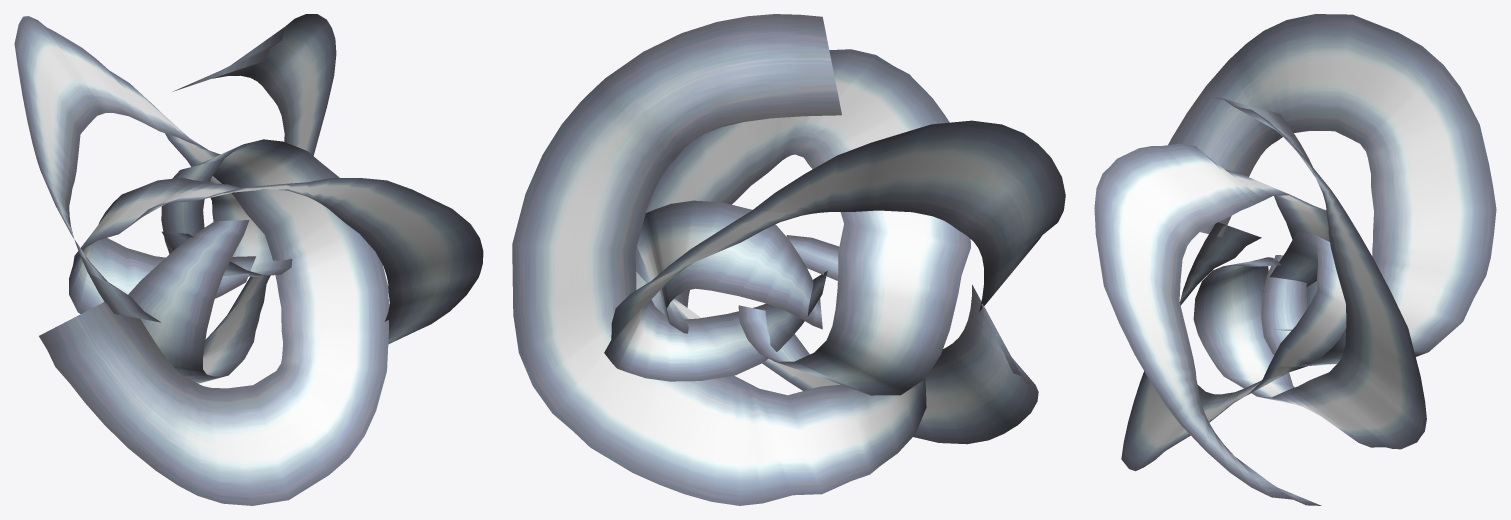
Rendered from witch_teleport_inout.FBX.
3 renders of one model, left to right at view 1: azimuth 30°, elevation 25°; view 2: azimuth 150°, elevation 25°; view 3: azimuth 270°, elevation 25°, orthographic. The views are drawn at different scales.
Visible parts, largest first — view 1: Plane002, Plane003, Plane004, Plane005; view 2: Plane004, Plane003, Plane005, Plane002; view 3: Plane005, Plane003, Plane004, Plane002.
Part boxes in pixels (<box>): Plane002: <box>39,139,388,505</box>; Plane003: <box>69,177,483,344</box>; Plane004: <box>128,14,336,383</box>; Plane005: <box>14,16,292,322</box>; Plane004: <box>512,14,926,505</box>; Plane003: <box>636,49,970,395</box>; Plane005: <box>604,120,1065,381</box>; Plane002: <box>635,200,1038,444</box>; Plane005: <box>1168,14,1496,366</box>; Plane003: <box>1094,143,1329,505</box>; Plane004: <box>1193,96,1426,449</box>; Plane002: <box>1121,222,1346,471</box>.
Bounding box in the file's own units: 50.89 × 47.71 × 45.81.
